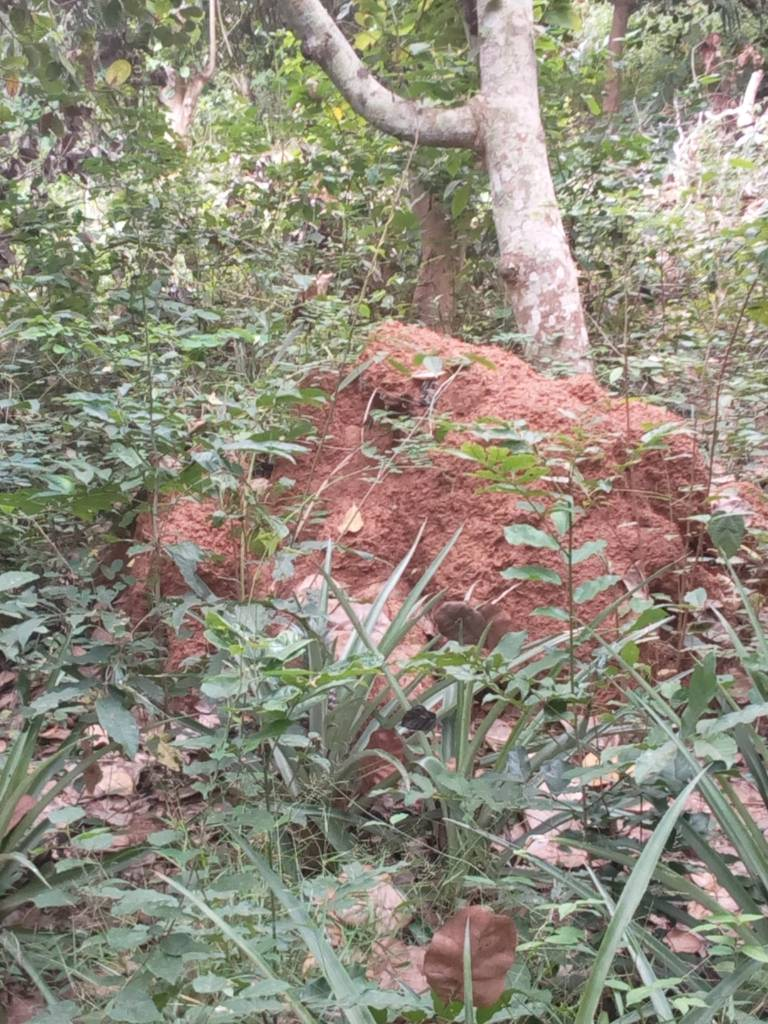Termites: (338, 327, 685, 613)
